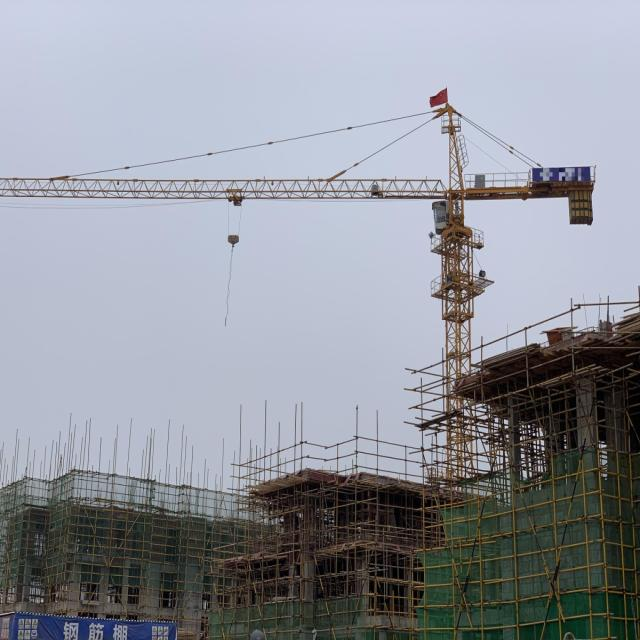crane: (0, 102, 595, 494)
